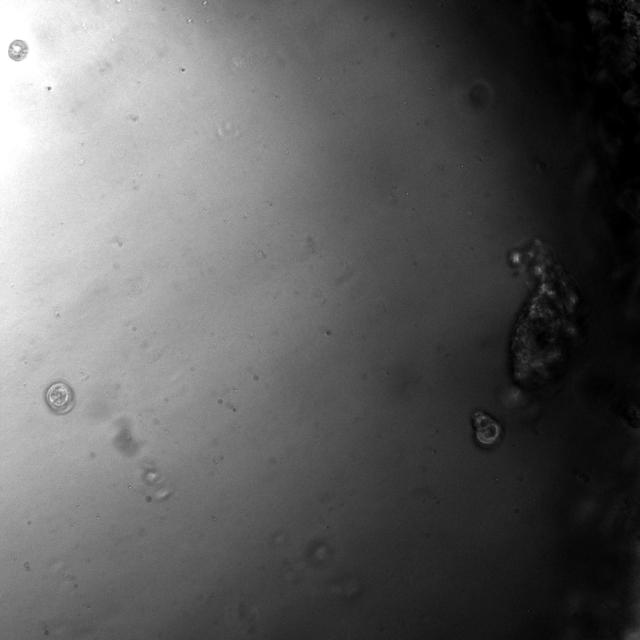organoid: (503, 239, 581, 406), (471, 410, 504, 448), (44, 380, 74, 414), (8, 40, 28, 61)
